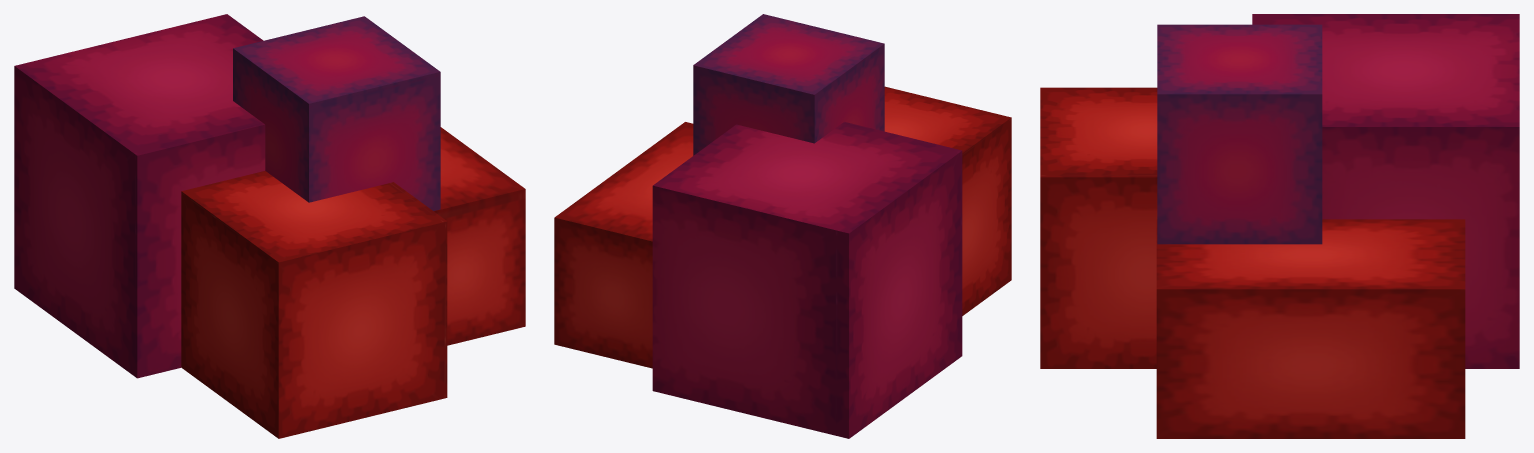
The model's file is Bush.fbx.
3 views of the same model, side by side, from view 1: azimuth 30°, elevation 25°; view 2: azimuth 150°, elevation 25°; view 3: azimuth 270°, elevation 25° (orthographic). The views are drawn at different scales.
Parts seen in each view (by area): view 1: pCube667; view 2: pCube667; view 3: pCube667.
Boxes of the visible parts, bbox=[...] form: pCube667: bbox=[14, 14, 525, 438]; pCube667: bbox=[554, 14, 1011, 438]; pCube667: bbox=[1040, 14, 1519, 438].
Bounding box in the file's own units: 3.15 × 2.41 × 3.49.
